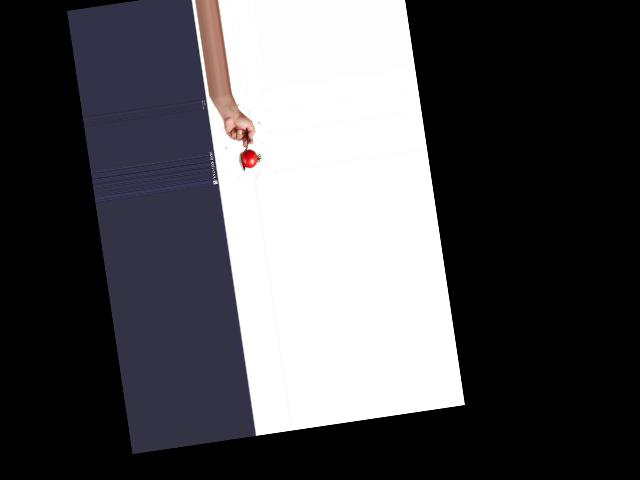tomato: (240, 147, 258, 168)
